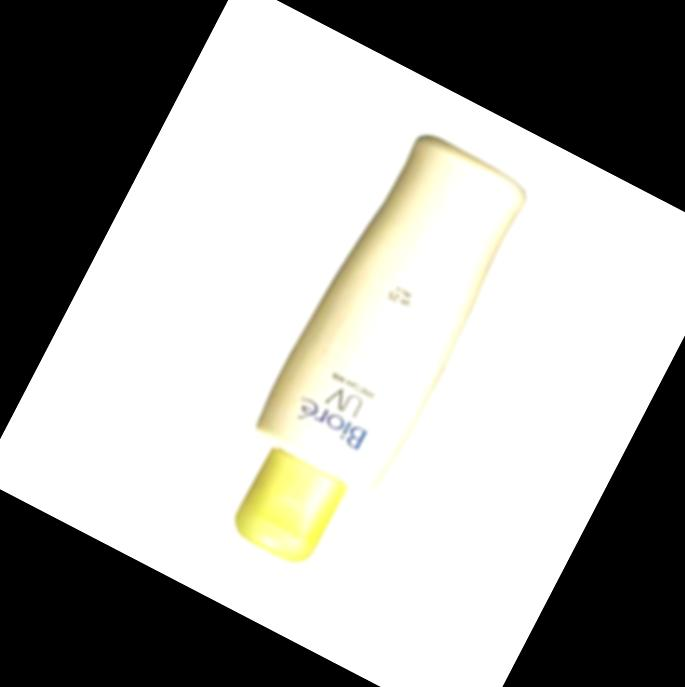cosmetic: (202, 123, 537, 589)
